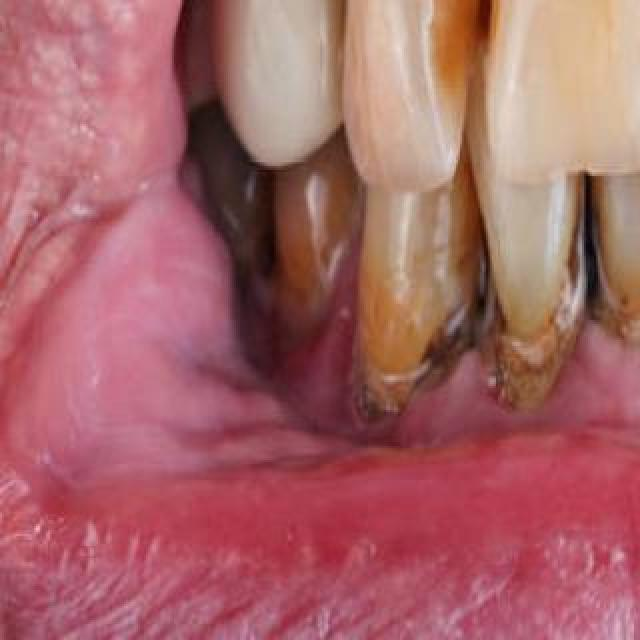calculus: (473, 223, 591, 415), (359, 257, 475, 437), (225, 216, 353, 346), (584, 196, 640, 360)
spacing: (412, 0, 516, 162)
